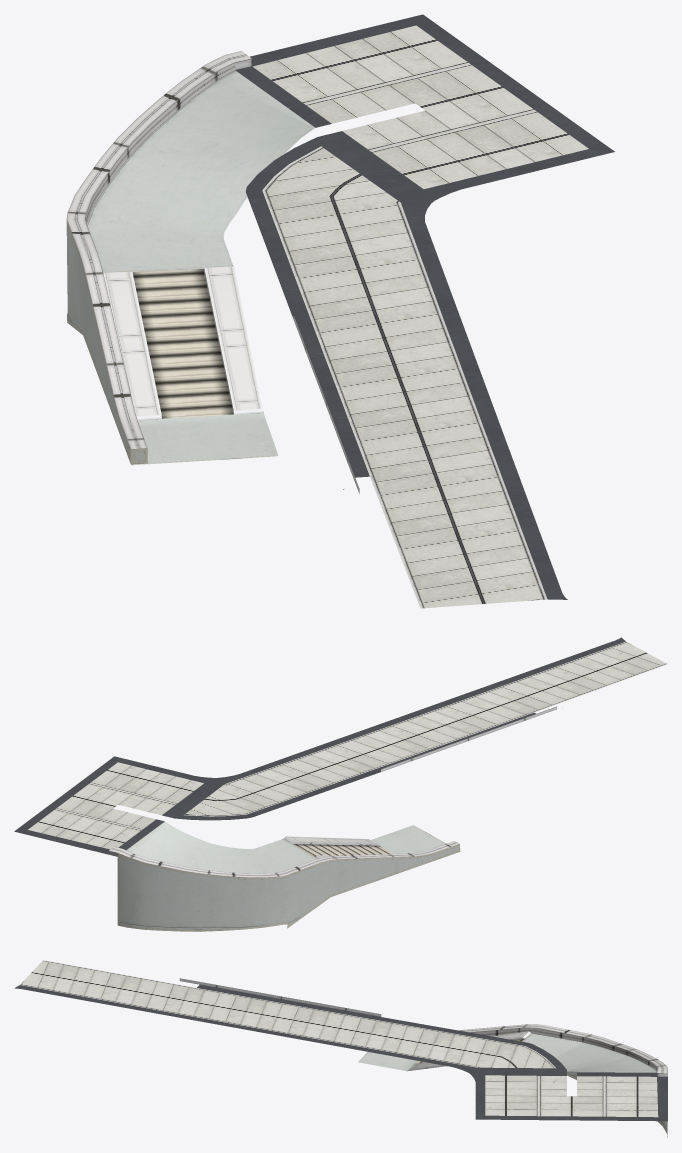
The model's file is STA20_walkway01.FBX.
3 views of the same model, one above another, from view 1: azimuth 30°, elevation 25°; view 2: azimuth 150°, elevation 25°; view 3: azimuth 270°, elevation 25° (orthographic). The views are drawn at different scales.
Visible parts, largest first — view 1: STA20_walkway01; view 2: STA20_walkway01; view 3: STA20_walkway01.
Part boxes in pixels (box(x1,y1,x2,y2)): STA20_walkway01: box(66, 14, 614, 608); STA20_walkway01: box(14, 637, 667, 931); STA20_walkway01: box(14, 960, 667, 1137).
Size of the model in its own units: 27.52 by 6.63 by 49.71.
